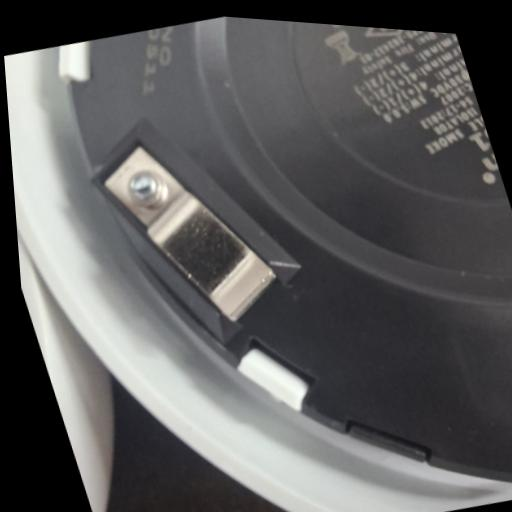yaysiz: (89, 118, 291, 346)
